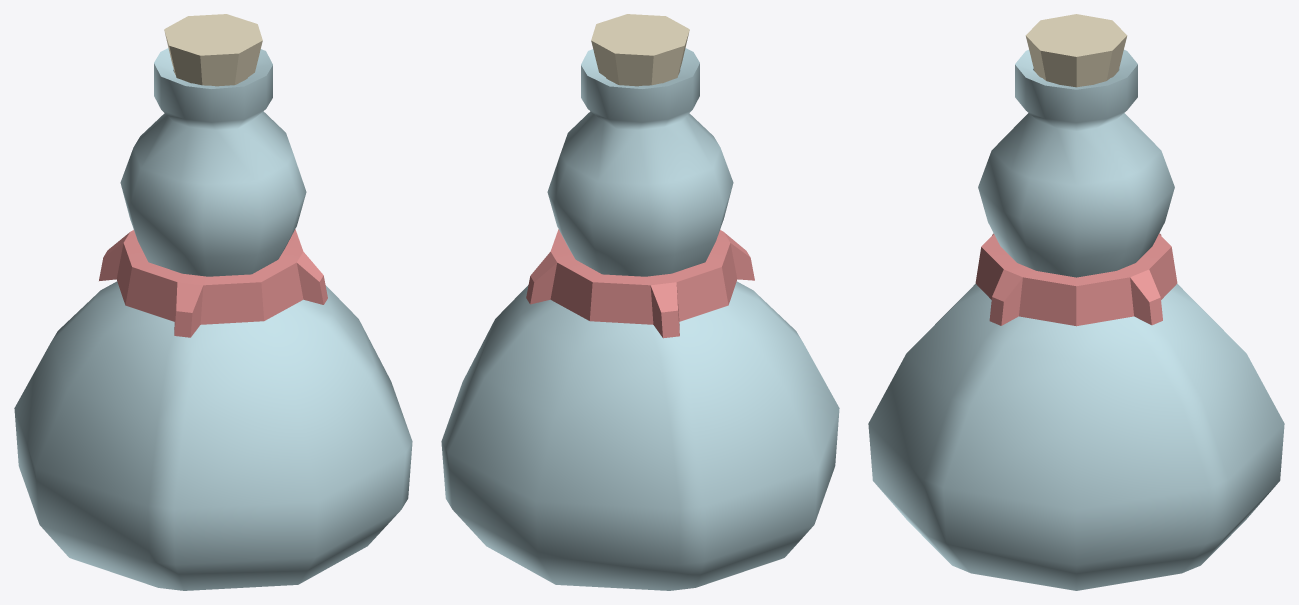
Rendered from Geo_Bottle_C.fbx.
3 views of the same model, side by side, from view 1: azimuth 30°, elevation 25°; view 2: azimuth 150°, elevation 25°; view 3: azimuth 270°, elevation 25° (orthographic).
Visible parts, largest first — view 1: Glass_GEO, Cork_GEO; view 2: Glass_GEO, Cork_GEO; view 3: Glass_GEO, Cork_GEO.
Boxes of the visible parts, left/top/right/bottom form: Glass_GEO: left=14, top=48, right=412, bottom=590; Cork_GEO: left=164, top=14, right=262, bottom=86; Glass_GEO: left=441, top=48, right=839, bottom=590; Cork_GEO: left=591, top=14, right=689, bottom=86; Glass_GEO: left=868, top=49, right=1284, bottom=590; Cork_GEO: left=1025, top=14, right=1127, bottom=87.
Bounding box in the file's own units: 25.73 × 34.72 × 26.21.
